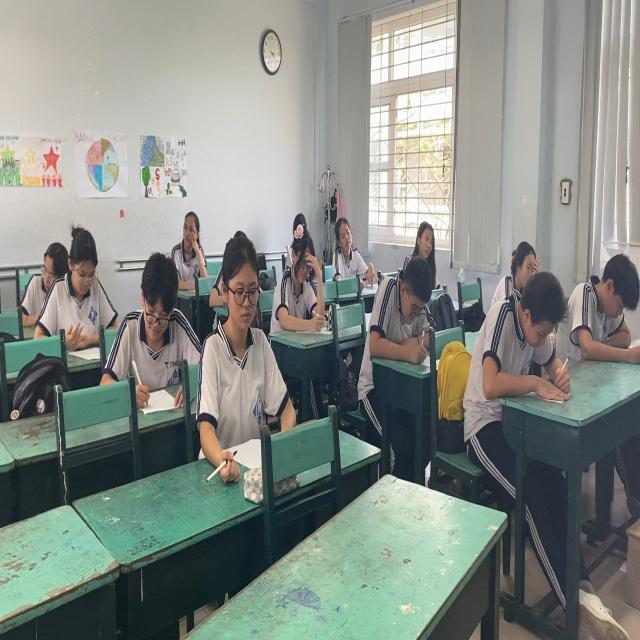not_cheating: (202, 227, 281, 435), (478, 264, 570, 424), (28, 224, 128, 341), (122, 252, 194, 400), (371, 248, 445, 358), (571, 251, 639, 369), (273, 220, 320, 324), (326, 192, 363, 282), (167, 204, 210, 278), (509, 225, 548, 292), (419, 216, 444, 265)
